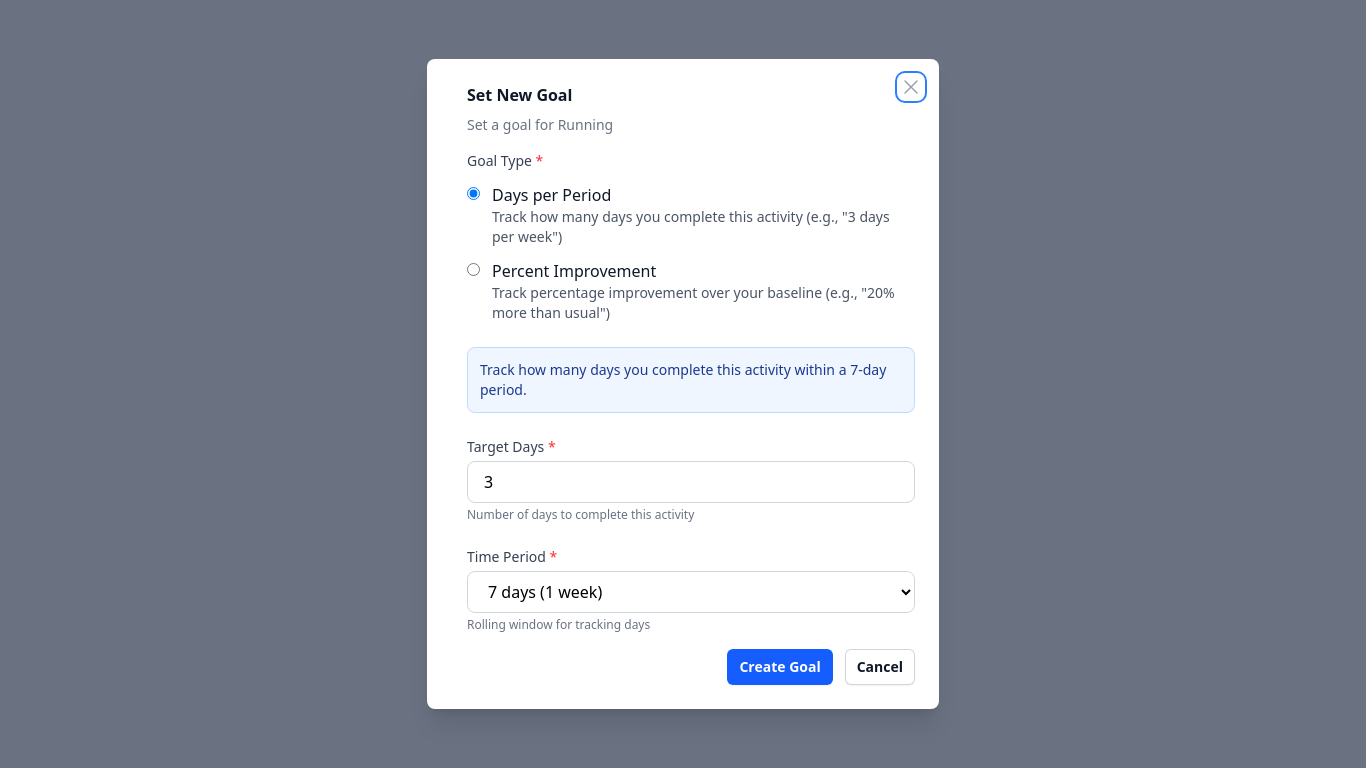
Test: GoalSettingModal › Target Value Input (Task 3.20) › should validate percentage does not exceed 1000%
The width and height of the screenshot is (1366, 768).
Switch to percent improvement
Click the 2nd radio button at (474, 270), box top-left (467, 263), bottom-right (480, 276)
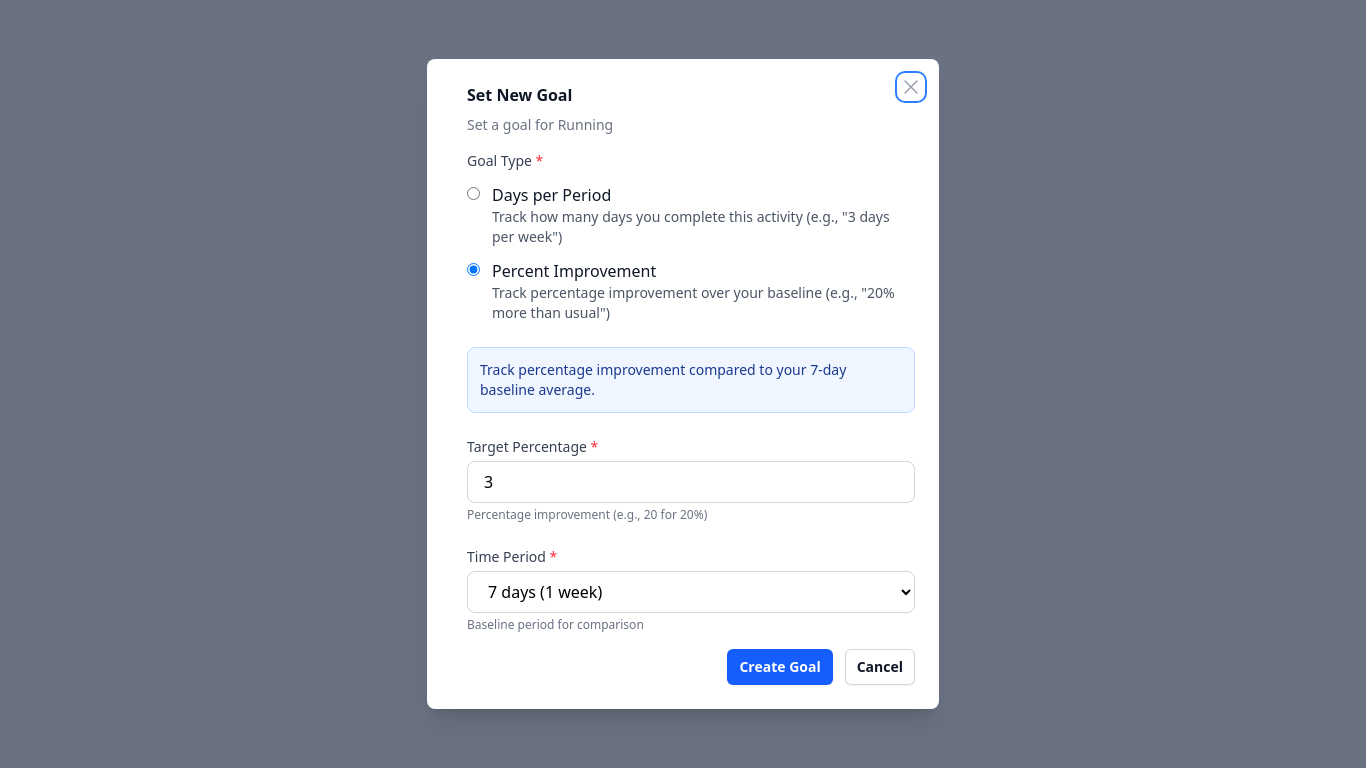
Set target to 1500%
Replace the text in the number field labelled "Target Percentage *" with "1500" at (691, 482), box top-left (467, 461), bottom-right (915, 503)
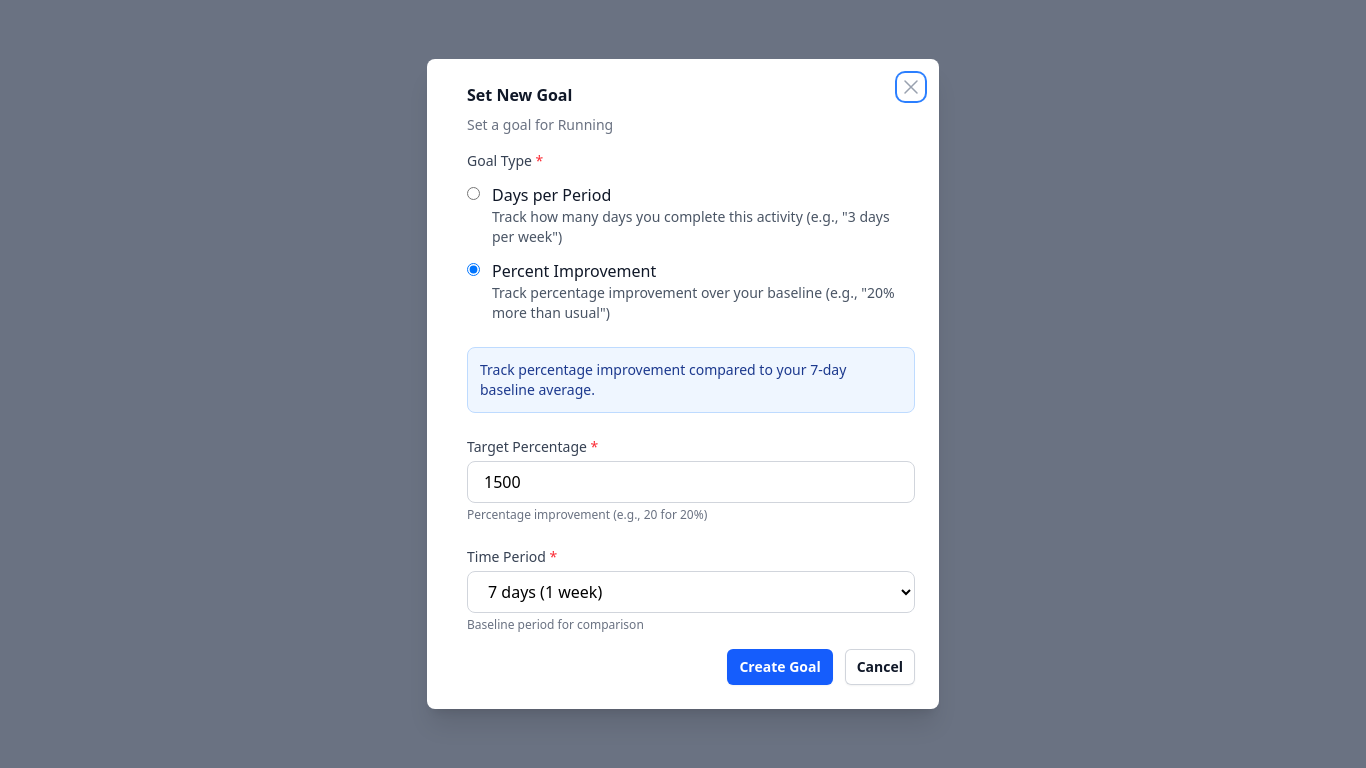
Click the button "Create Goal" at (780, 667), box top-left (727, 649), bottom-right (833, 685)
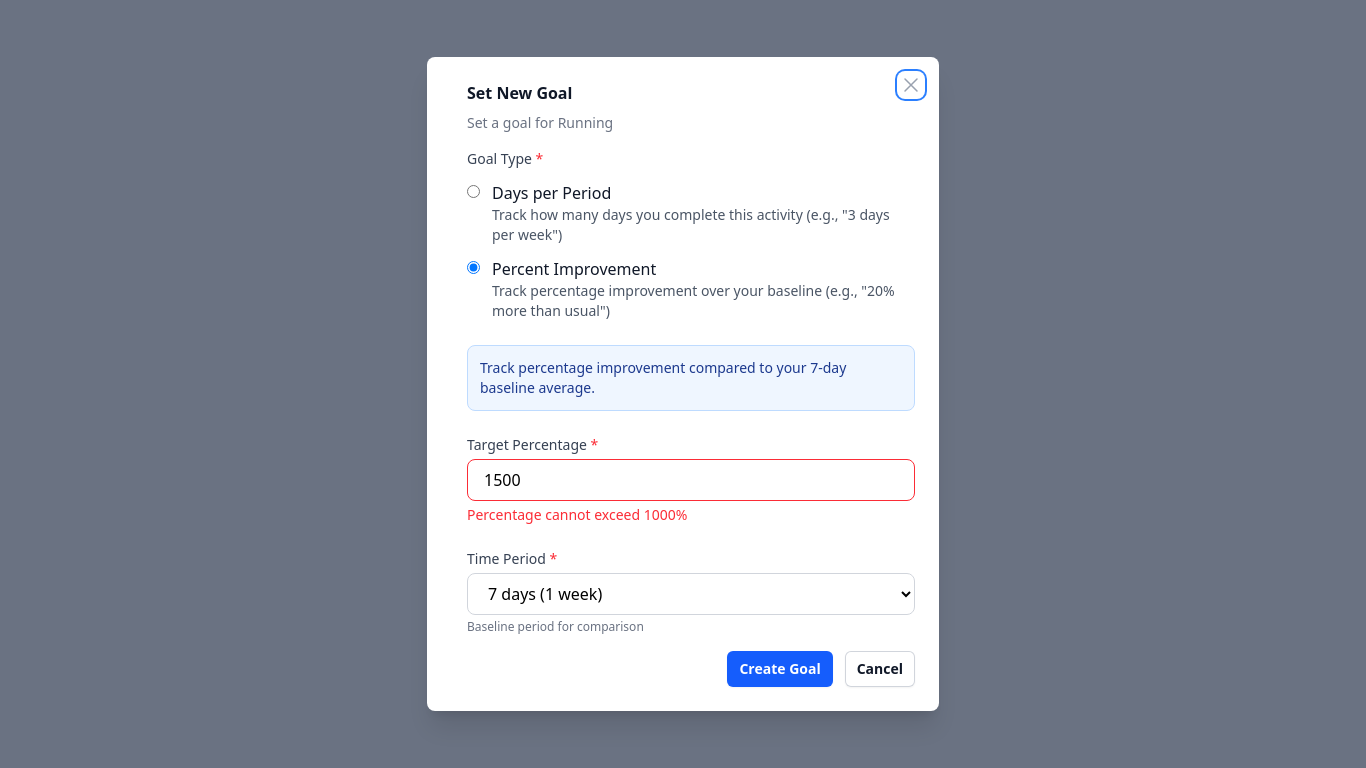
Now the text "Percentage cannot exceed 1000%" is shown, box top-left (467, 505), bottom-right (687, 524)
